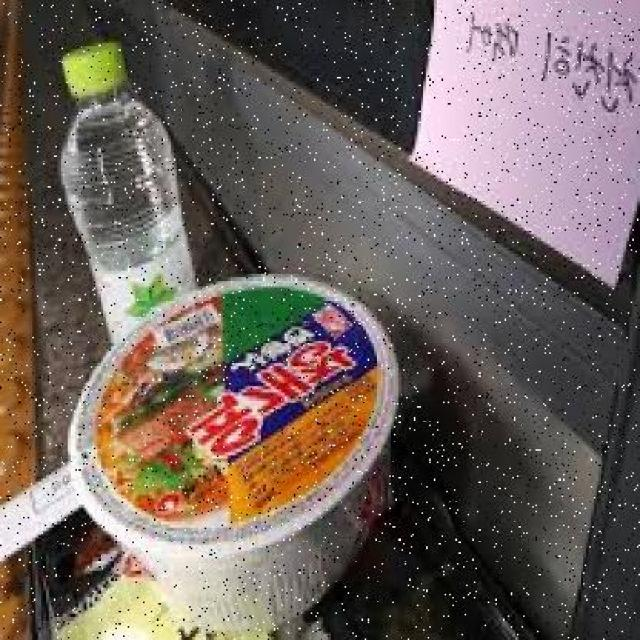Miscellaneous: (67, 270, 396, 624)
